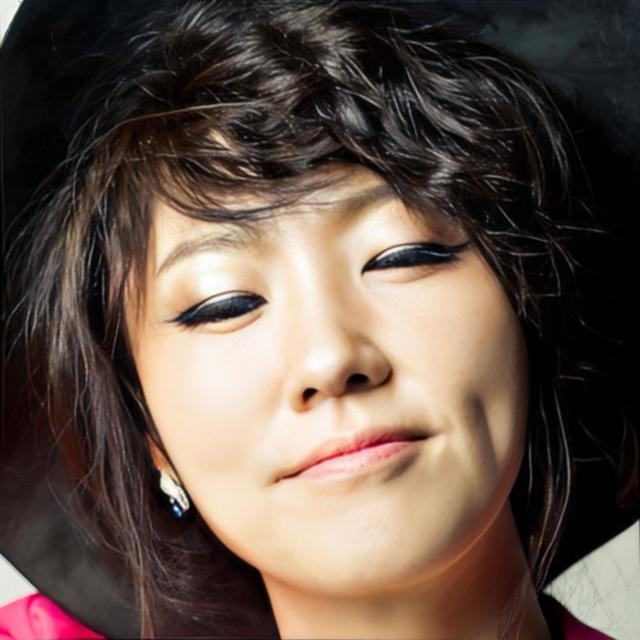content: (125, 137, 530, 598)
